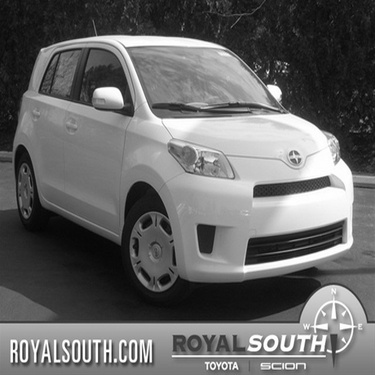car: (8, 30, 367, 304)
